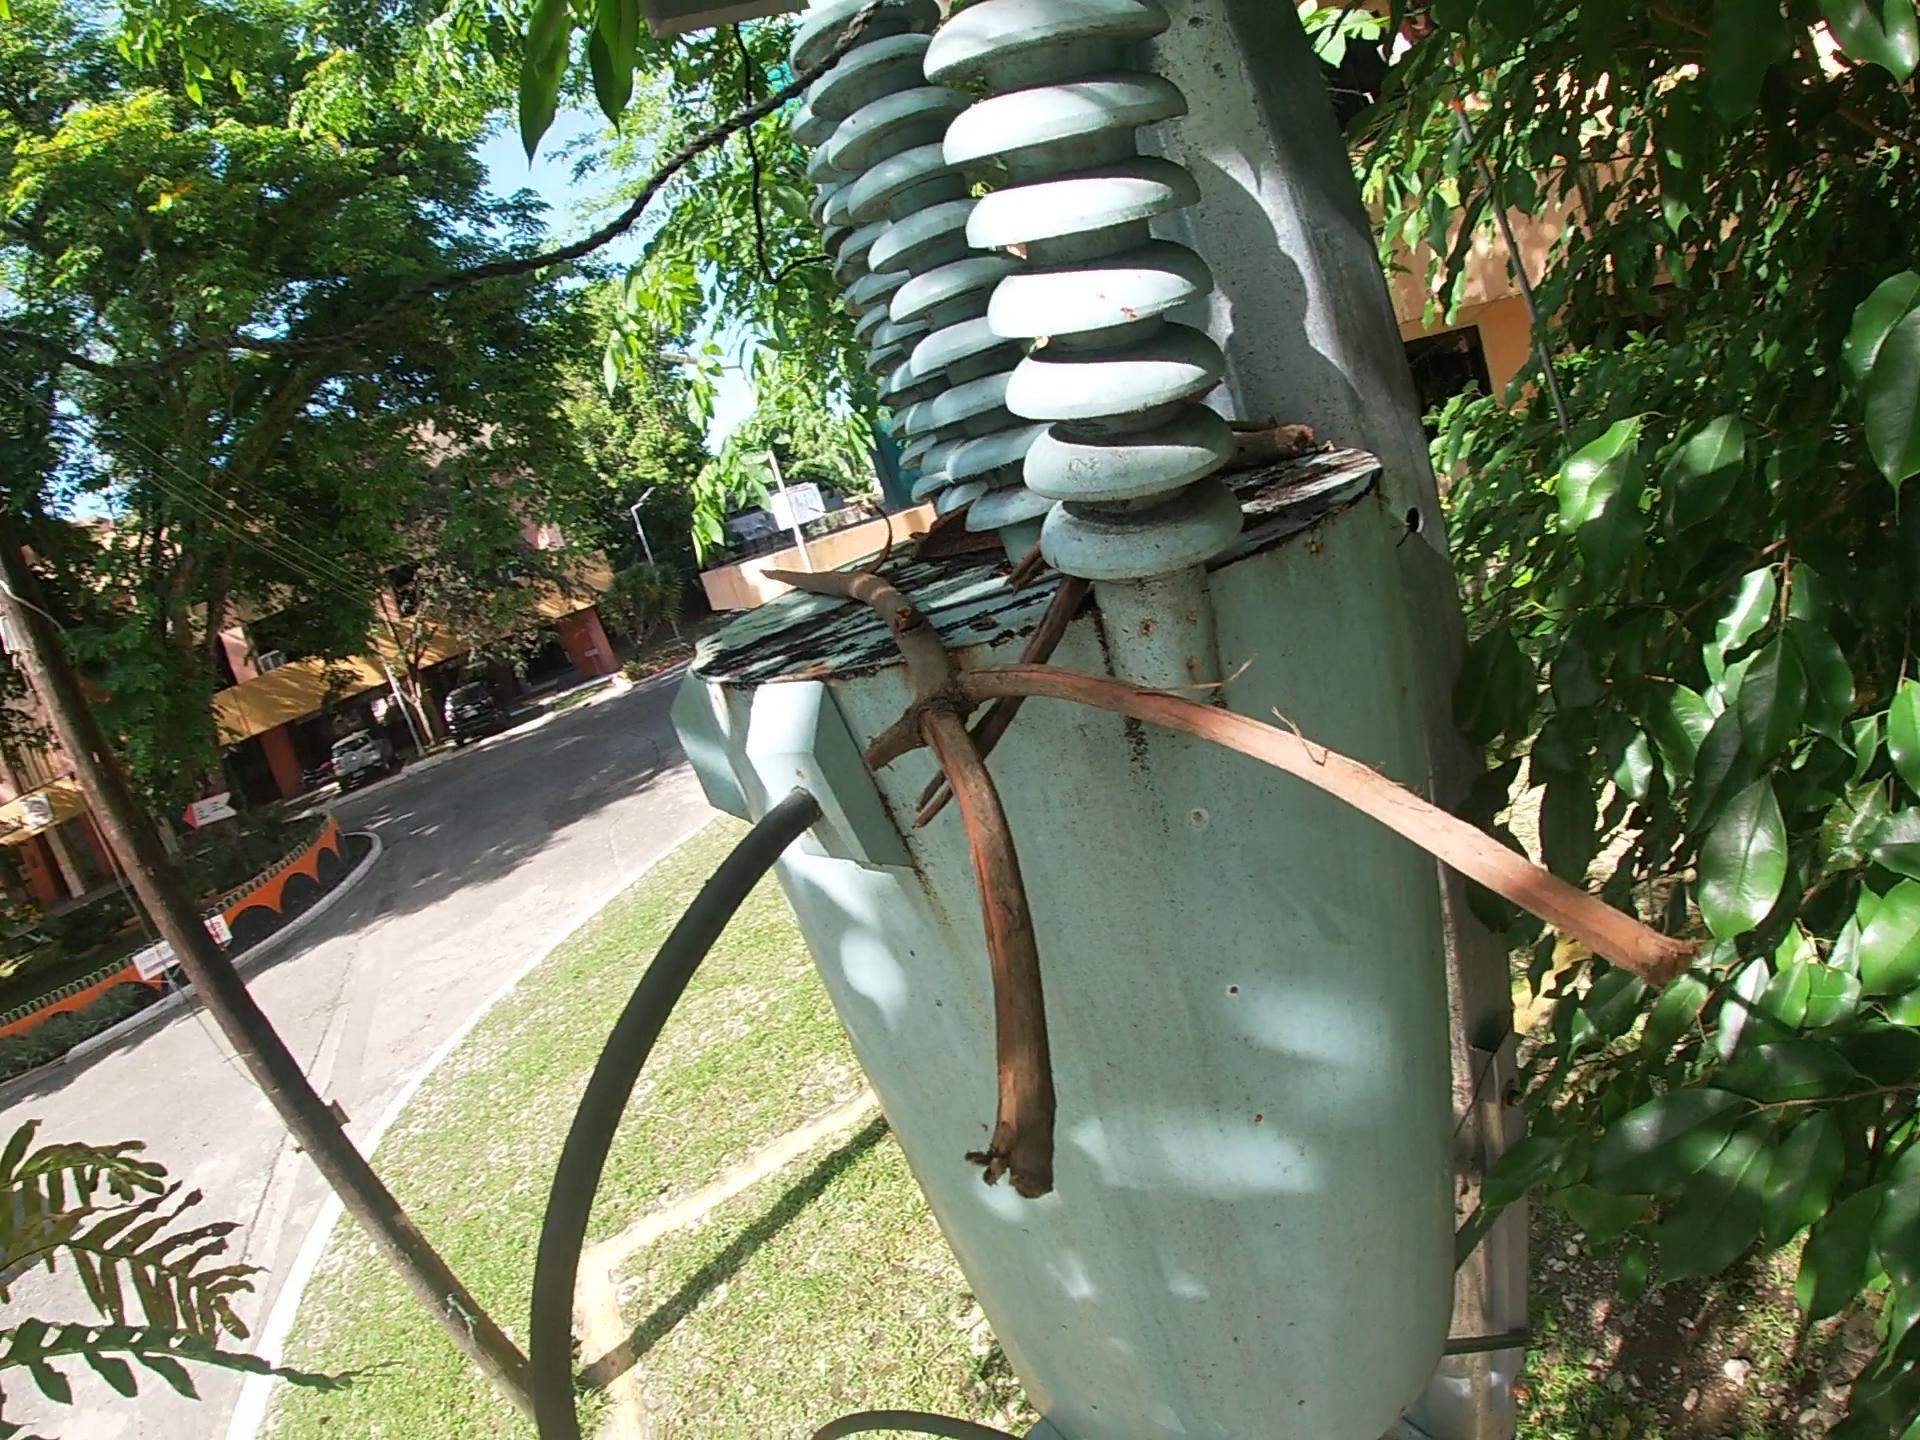mahogany fruit: (904, 498, 1007, 569), (857, 498, 897, 581)
tree branch: (751, 555, 1708, 1209), (897, 538, 1092, 841), (1223, 416, 1324, 478)
